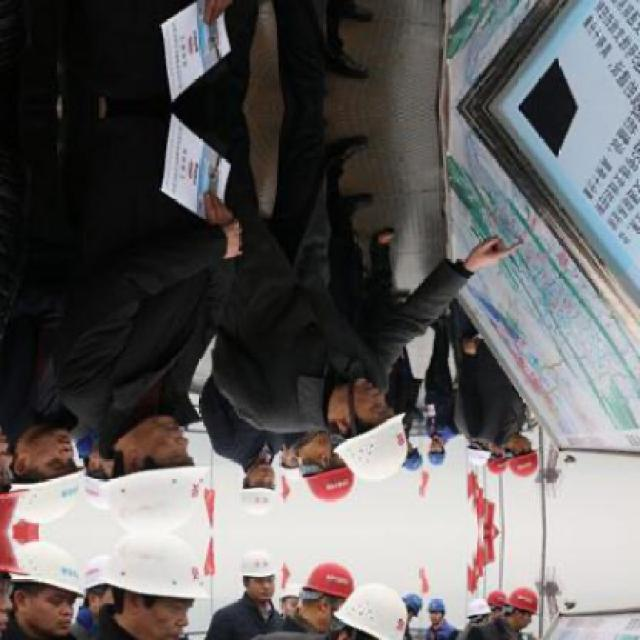con casco: (84, 443, 212, 530), (300, 381, 412, 474), (5, 432, 86, 538), (476, 442, 556, 489), (219, 471, 293, 520)
